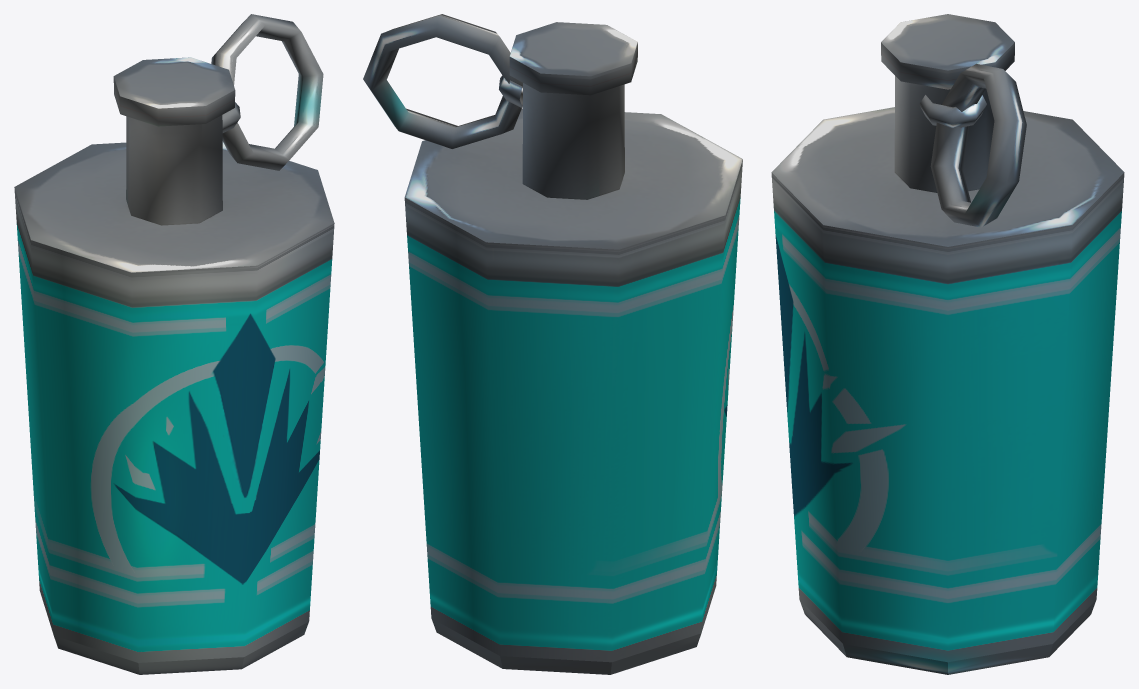
Rendered from lei_ice.FBX.
3 renders of one model, left to right at view 1: azimuth 30°, elevation 25°; view 2: azimuth 150°, elevation 25°; view 3: azimuth 270°, elevation 25°, orthographic. The views are drawn at different scales.
Visible parts, largest first — view 1: lei_ice; view 2: lei_ice; view 3: lei_ice.
Part boxes in pixels (x1,y1,x2,y2): lei_ice: (14,14,334,674); lei_ice: (363,14,742,674); lei_ice: (771,14,1124,674).
Bounding box in the file's own units: 32.41 × 55.22 × 29.5.
